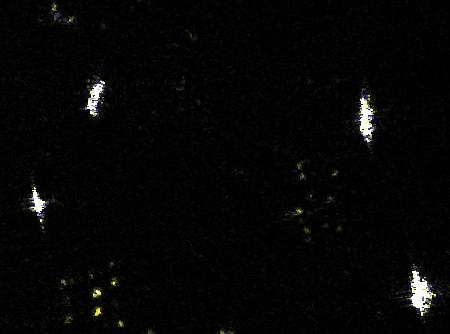ship: (406, 267, 437, 317), (356, 95, 380, 143), (85, 79, 109, 117), (27, 186, 49, 222)
